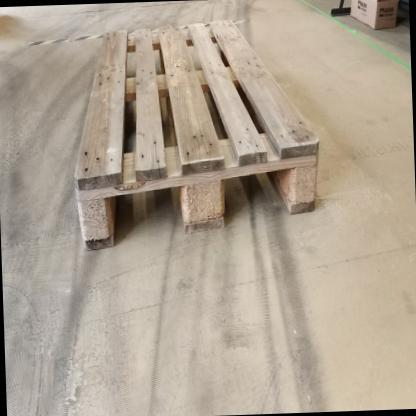BoxFace: (71, 16, 322, 260)
